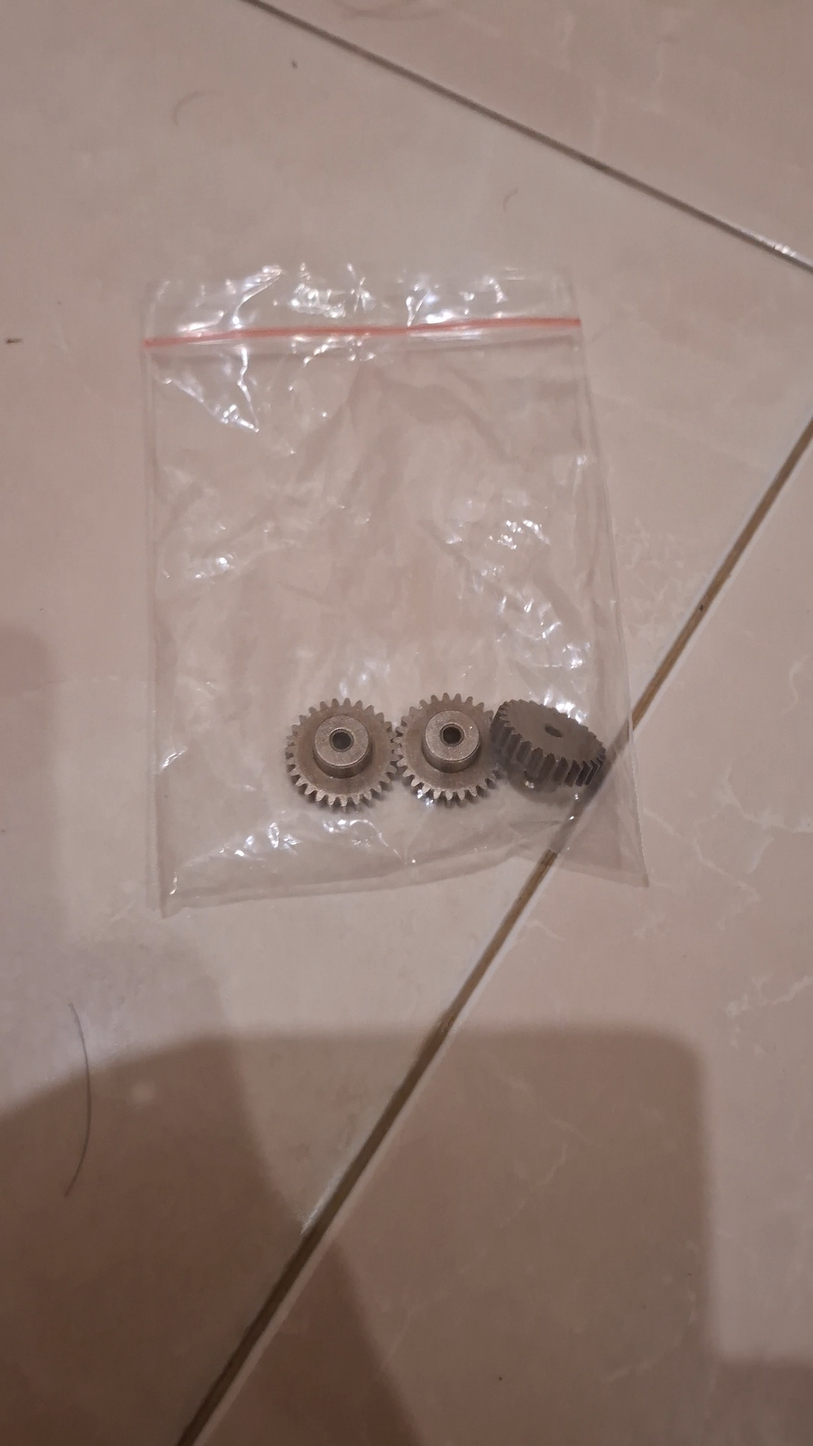spur gear: (281, 697, 400, 810), (394, 693, 503, 806), (486, 696, 606, 795)
